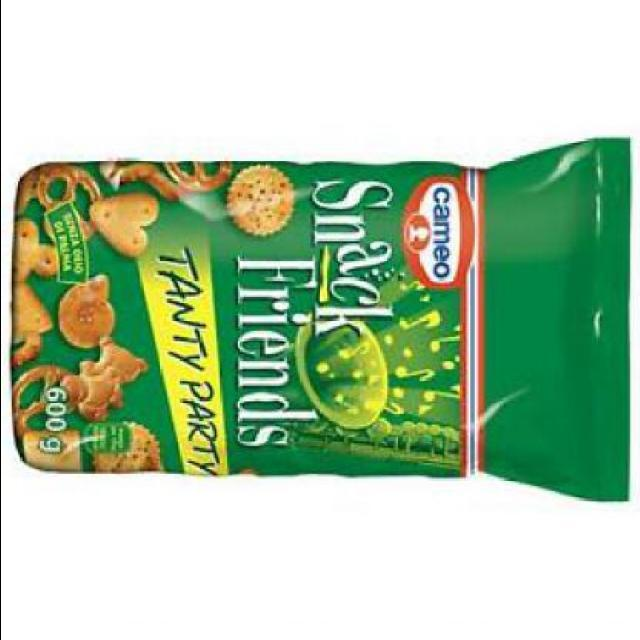Salatini: (2, 126, 638, 516)
